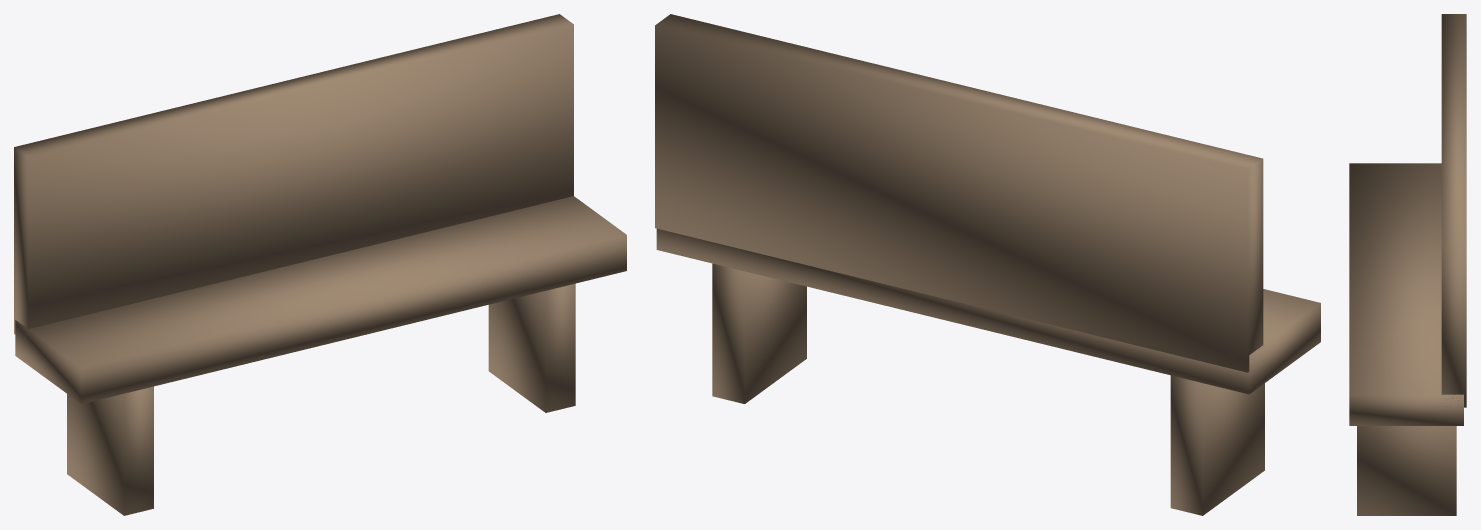
The model's file is church_pew__tall.glb.
3 views of the same model, side by side, from view 1: azimuth 30°, elevation 25°; view 2: azimuth 150°, elevation 25°; view 3: azimuth 270°, elevation 25° (orthographic). The views are drawn at different scales.
Parts seen in each view (by area): view 1: world; view 2: world; view 3: world.
Part boxes in pixels (<box>): world: <box>14,14,626,515</box>; world: <box>655,14,1320,515</box>; world: <box>1349,14,1466,515</box>.
Size of the model in its own units: 2.2 by 1.29 by 0.47.
